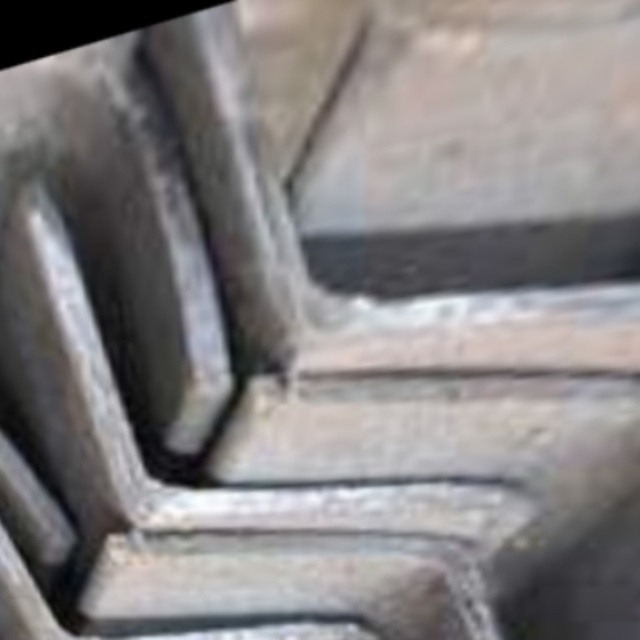Angle: (33, 76, 550, 520), (218, 0, 640, 366), (276, 343, 640, 640), (0, 374, 358, 640), (401, 0, 640, 280), (42, 20, 205, 377), (121, 528, 579, 640), (0, 252, 63, 537), (0, 584, 228, 640)
